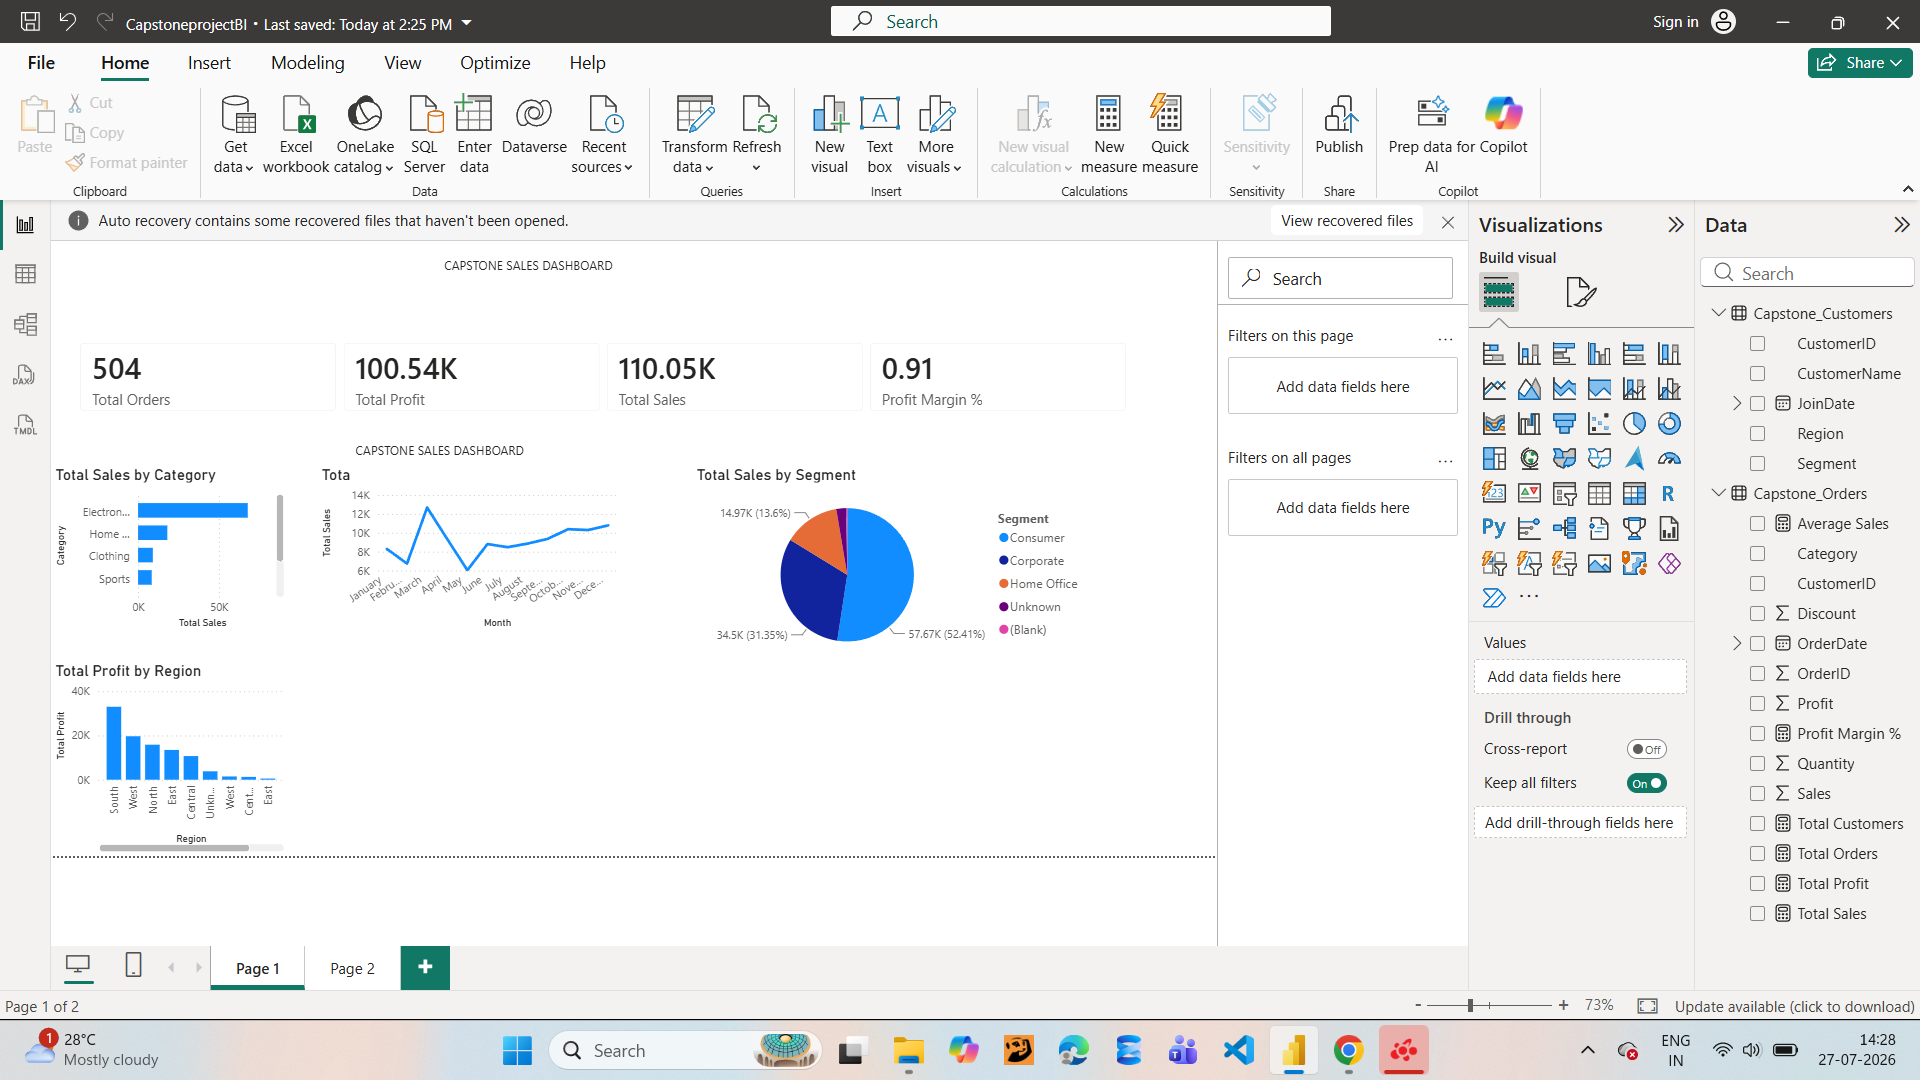

This screenshot's page, from the dashboard's own definition file:
{"tool":"powerbi","page":{"name":"Page 1","canvas":[1280,720],"ordinal":0},"visuals":[{"type":"clusteredBarChart","fields":{"Category":["Capstone_Orders.Category"],"Y":["Capstone_Orders.Total Sales"]},"box":[0,290.9,260.7,183.9],"z":0},{"type":"clusteredColumnChart","fields":{"Category":["Capstone_Customers.Region"],"Y":["Capstone_Orders.Total Profit"]},"box":[0,506.3,260.7,214.1],"z":1000},{"type":"lineChart","fields":{"Category":["Capstone_Orders.OrderDate.Variation.Date Hierarchy.Month"],"Y":["Capstone_Orders.Total Sales"]},"box":[292.3,290.9,333.4,183.9],"z":2000},{"type":"pieChart","fields":{"Y":["Capstone_Orders.Total Sales"],"Category":["Capstone_Customers.Segment"]},"box":[703.9,290.9,437.7,222.3],"z":3000},{"type":"kpi","fields":{"Indicator":["Capstone_Orders.Total Sales"],"Goal":["Capstone_Orders.Total Profit","Capstone_Orders.Total Orders"]},"box":[0,0,977,150.9],"z":4000},{"type":"kpi","fields":{"Indicator":["Capstone_Orders.Total Sales"],"Goal":["Capstone_Orders.Total Orders","Capstone_Orders.Total Profit"]},"box":[0,0,417.2,140],"z":5000},{"type":"kpi","fields":{"Indicator":["Capstone_Orders.Total Profit"],"Goal":["Capstone_Orders.Total Orders","Capstone_Orders.Total Sales"]},"box":[0,0,686.1,140],"z":6000},{"type":"kpi","fields":{"Indicator":["Capstone_Orders.Total Profit"],"Goal":["Capstone_Orders.Total Sales","Capstone_Orders.Total Orders"]},"box":[686,0,280,150],"z":7000},{"type":"cardVisual","fields":{"Data":["Capstone_Orders.Total Orders","Capstone_Orders.Total Profit","Capstone_Orders.Total Sales","Capstone_Orders.Profit Margin %"]},"box":[15.1,140,1184.2,109.8],"z":8000},{"type":"textbox","box":[182.5,0,783.5,111.1],"z":8002},{"type":"textbox","box":[1112,0,150,150],"z":8003},{"type":"textbox","box":[329.3,260.7,230.5,59],"z":8004},{"type":"textbox","box":[329.3,57.6,389.7,53.5],"z":8005}]}

Visuals, with their boxes on the page's 1280x720 design canvas (x1, y1, x2, y2). These are canvas units, not pixel positions in the 1920x1080 screenshot, which may show the page scaled, cropped or inside an application window:
clusteredBarChart - Capstone_Orders.Category x Capstone_Orders.Total Sales: 0:291:261:475
clusteredColumnChart - Capstone_Customers.Region x Capstone_Orders.Total Profit: 0:506:261:720
lineChart - Capstone_Orders.OrderDate.Variation.Date Hierarchy.Month x Capstone_Orders.Total Sales: 292:291:626:475
pieChart - Capstone_Orders.Total Sales x Capstone_Customers.Segment: 704:291:1142:513
kpi - Capstone_Orders.Total Sales x Capstone_Orders.Total Profit: 0:0:977:151
kpi - Capstone_Orders.Total Sales x Capstone_Orders.Total Orders: 0:0:417:140
kpi - Capstone_Orders.Total Profit x Capstone_Orders.Total Orders: 0:0:686:140
kpi - Capstone_Orders.Total Profit x Capstone_Orders.Total Sales: 686:0:966:150
cardVisual - Capstone_Orders.Total Orders x Capstone_Orders.Total Profit: 15:140:1199:250
textbox: 182:0:966:111
textbox: 1112:0:1262:150
textbox: 329:261:560:320
textbox: 329:58:719:111
